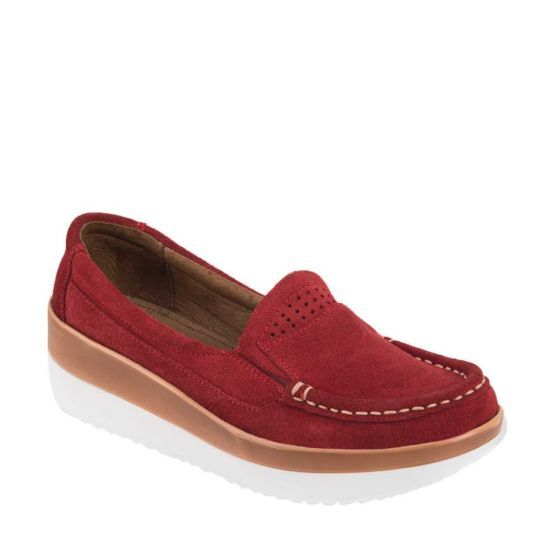gamuza: (50, 212, 500, 450)
